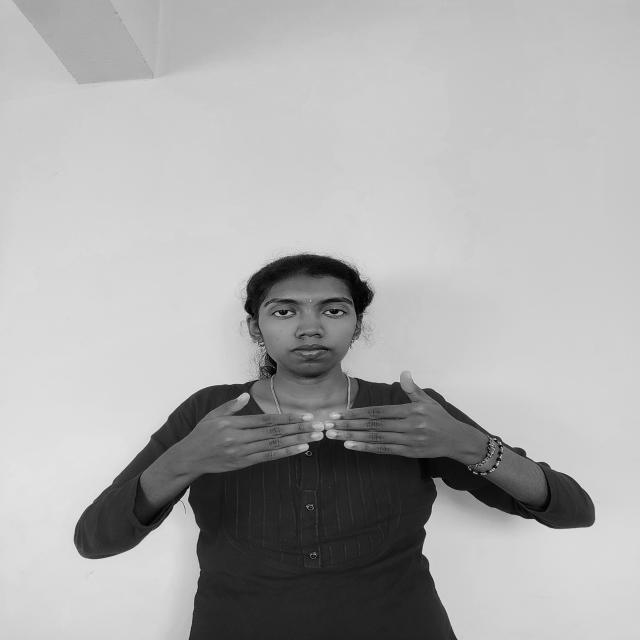Night: (169, 366, 477, 476)
